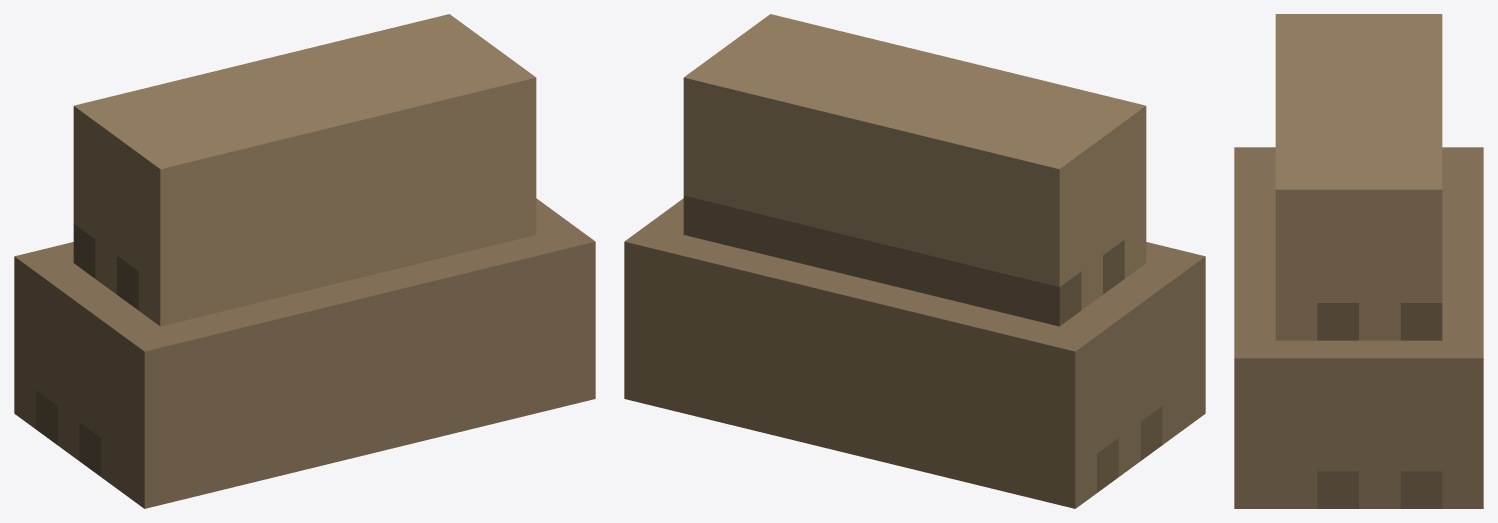
The model's file is lena_apilada_02.glb.
3 views of the same model, side by side, from view 1: azimuth 30°, elevation 25°; view 2: azimuth 150°, elevation 25°; view 3: azimuth 270°, elevation 25° (orthographic). The views are drawn at different scales.
Parts seen in each view (by area): view 1: lena_apilada_02; view 2: lena_apilada_02; view 3: lena_apilada_02.
Part boxes in pixels (<box>): lena_apilada_02: <box>14,14,595,508</box>; lena_apilada_02: <box>624,14,1205,508</box>; lena_apilada_02: <box>1234,14,1483,508</box>.
Bounding box in the file's own units: 1.2 × 0.8 × 0.6.
